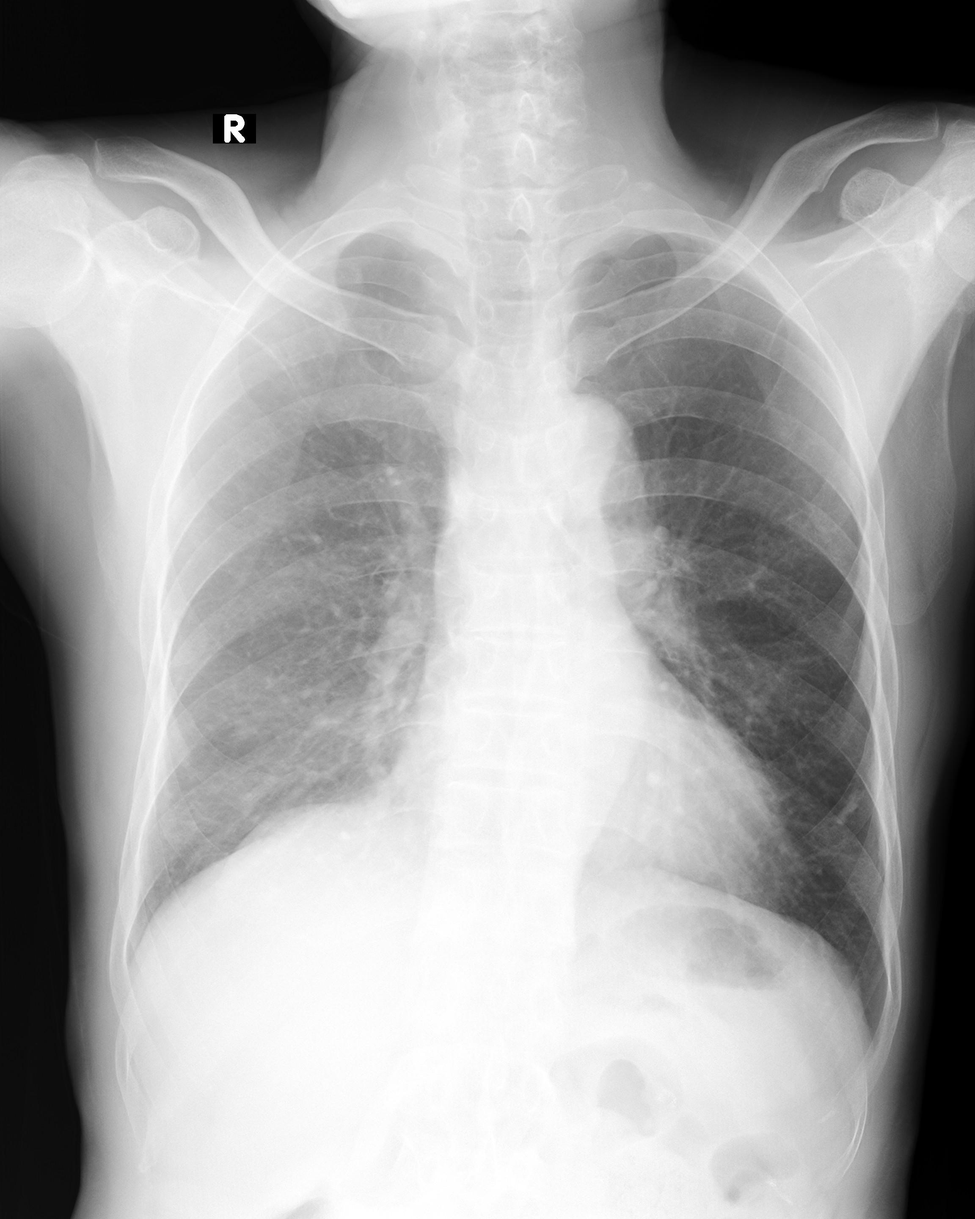Aortic enlargement: (519, 398, 647, 519)
Cardiomegaly: (382, 750, 796, 913)
